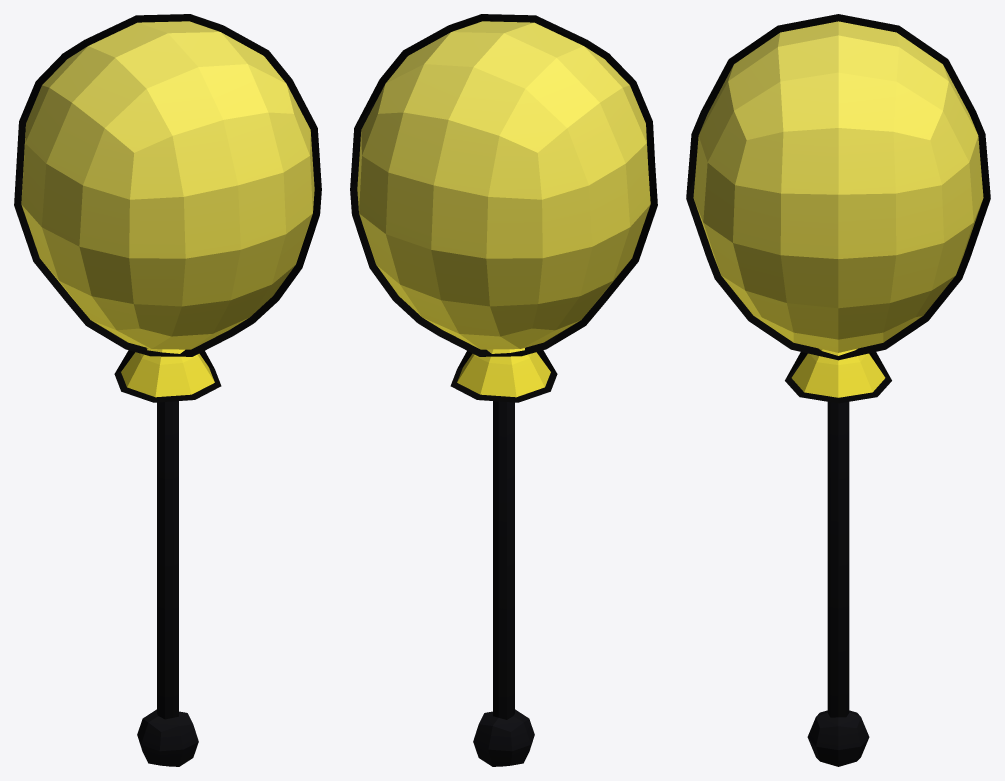
Rendered from item_balloon_yellow.fbx.
3 renders of one model, left to right at view 1: azimuth 30°, elevation 25°; view 2: azimuth 150°, elevation 25°; view 3: azimuth 270°, elevation 25°, orthographic.
Visible parts, largest first — view 1: Balloon, BalloonThread; view 2: Balloon, BalloonThread; view 3: Balloon, BalloonThread.
Part boxes in pixels (box(x1,y1,x2,y2)): Balloon: box(14, 14, 321, 402); BalloonThread: box(137, 401, 198, 766); Balloon: box(350, 14, 657, 402); BalloonThread: box(473, 401, 534, 766); Balloon: box(686, 14, 990, 403); BalloonThread: box(807, 402, 869, 766).
Size of the model in its own units: 82.56 by 220 by 82.56.
